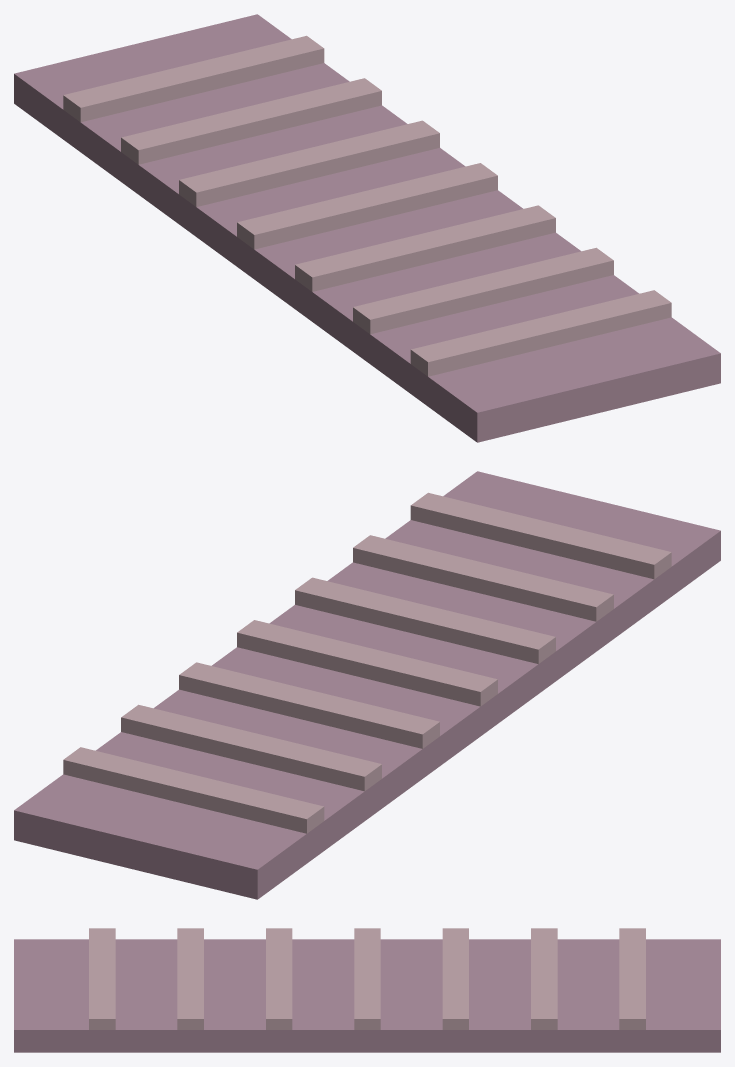
Rendered from SM_SmallBridge_001.fbx.
3 renders of one model, top to bottom at view 1: azimuth 30°, elevation 25°; view 2: azimuth 150°, elevation 25°; view 3: azimuth 270°, elevation 25°, orthographic. The views are drawn at different scales.
Parts seen in each view (by area): view 1: SM_SmallBridge; view 2: SM_SmallBridge; view 3: SM_SmallBridge.
Part boxes in pixels (bbox=[...]): SM_SmallBridge: bbox=[14, 14, 720, 442]; SM_SmallBridge: bbox=[14, 471, 720, 899]; SM_SmallBridge: bbox=[14, 928, 720, 1052].
Size of the model in its own units: 151 by 26.36 by 498.
